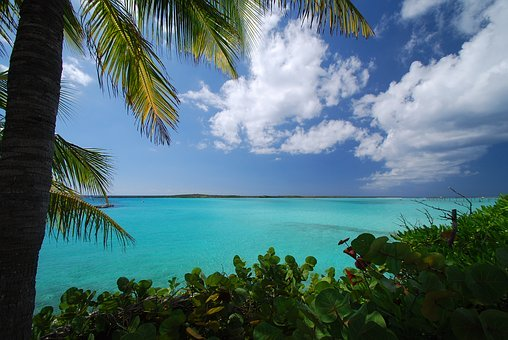forest: (51, 251, 506, 337)
sea: (52, 185, 482, 264)
sky: (171, 14, 501, 187)
tree: (3, 1, 178, 337)
